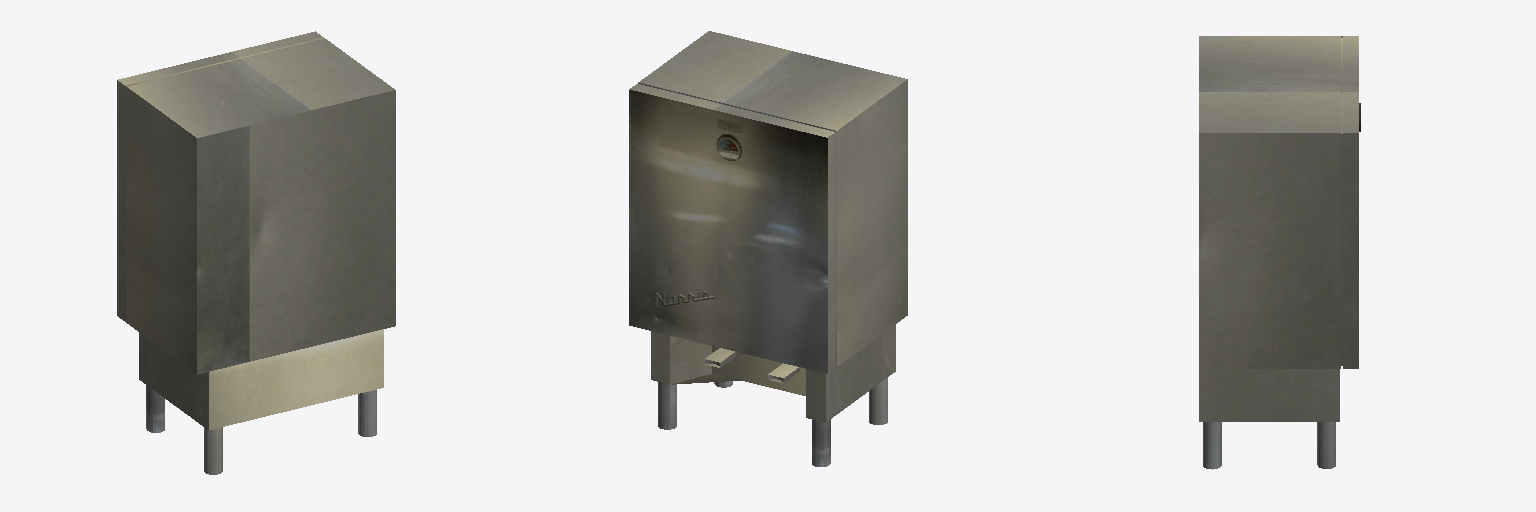
The picture shows the model from 3 angles: view 1: azimuth 30°, elevation 25°; view 2: azimuth 150°, elevation 25°; view 3: azimuth 270°, elevation 25°; orthographic projection.
Visible parts, largest first — view 1: milk_machine.obj; view 2: milk_machine.obj; view 3: milk_machine.obj.
Part boxes in pixels (x1,y1,x2,y2): milk_machine.obj: (117,31,395,474); milk_machine.obj: (629,31,907,466); milk_machine.obj: (1199,36,1360,469).
Size of the model in its own units: 4.14 by 6.84 by 2.92.
Materials: 1 (1 with a texture image).